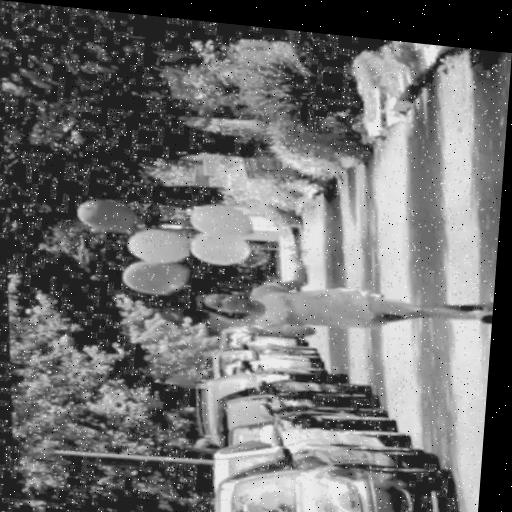balloon: (111, 259, 188, 296), (70, 195, 138, 234), (185, 201, 249, 241), (124, 226, 185, 267), (186, 234, 246, 265)
